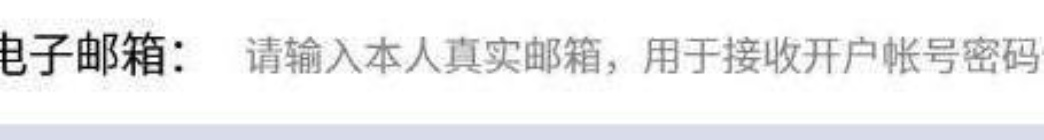EditText: (1, 1, 1043, 139)
